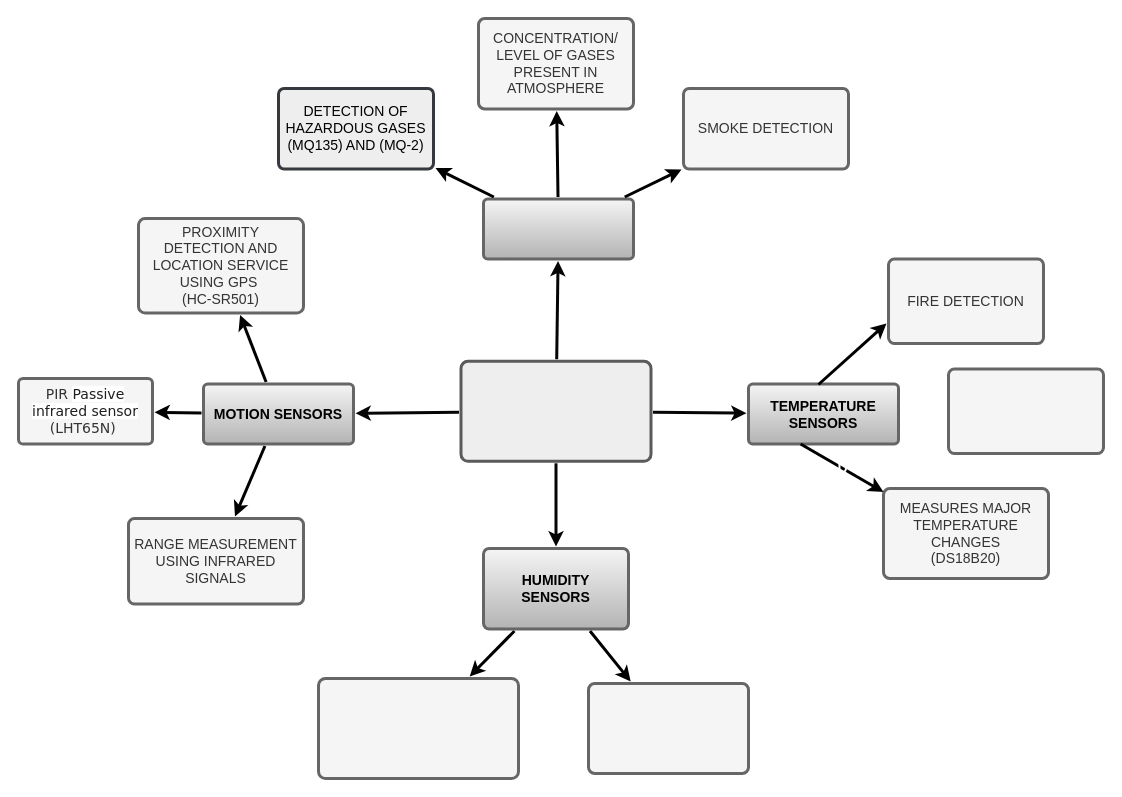
The diagram is 1122 pixels wide and 797 high, and some of its shapes have lost their labels. The centre of each missing label's shape, as x and y in pixels:
"(DHT11) (AM2315 12C)" belongs at (668,728).
"FIRE DETECTION DHT22-AM2302" belongs at (1025,410).
"GAS SENSORS" belongs at (558,228).
"MOISTURE - WATER VAPOUR CONTENT IN SURROUNDING" belongs at (418,728).
"SENSOR FUSION" belongs at (555,410).
